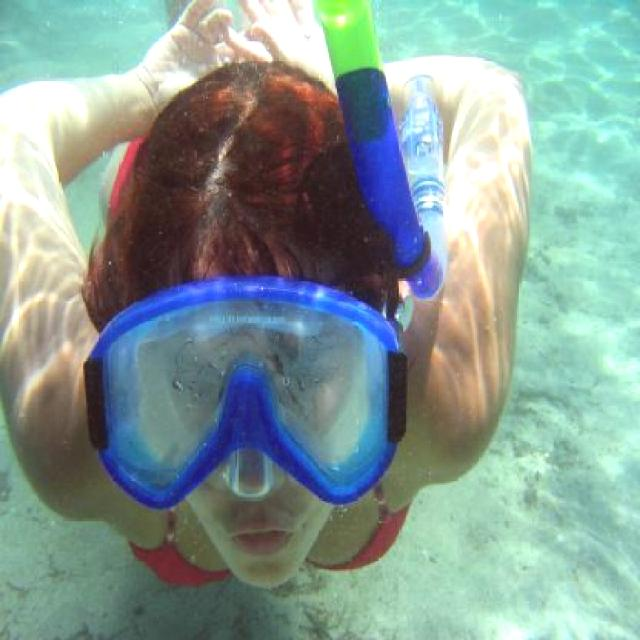face_nomask: (141, 326, 362, 582)
glasses: (84, 272, 410, 513)
head_nohelmet: (98, 88, 394, 348)
